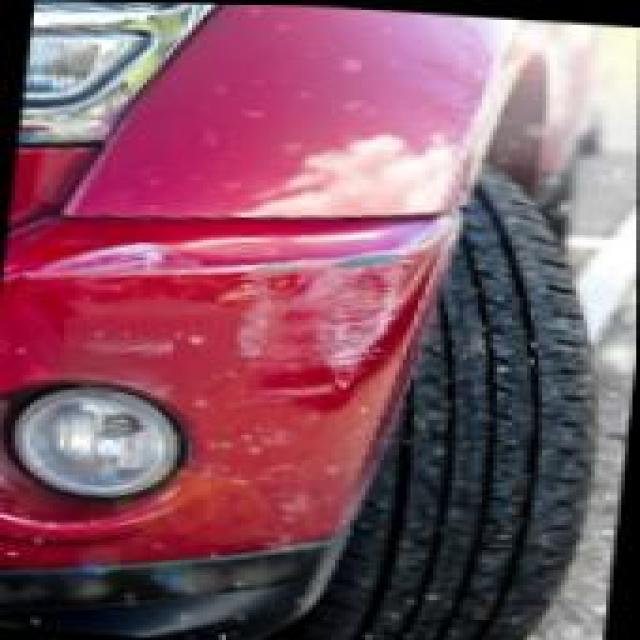Bumper: (0, 215, 439, 574)
